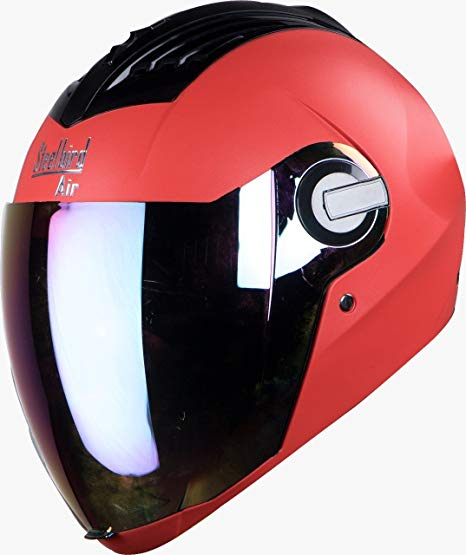with_helmet: (5, 1, 465, 555)
